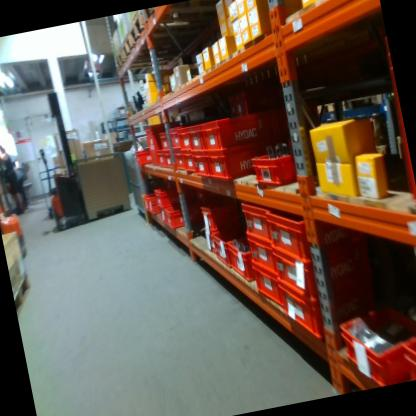pallet: (9, 271, 37, 315), (127, 9, 149, 50), (118, 27, 137, 66), (111, 48, 128, 78), (143, 5, 164, 24)
pallet_truck: (26, 82, 88, 234), (0, 182, 28, 258)
small_load_carrier: (280, 265, 388, 345), (266, 193, 372, 265), (274, 233, 380, 299), (339, 309, 416, 392), (198, 105, 281, 157), (248, 142, 299, 190), (239, 196, 276, 252), (204, 145, 252, 187), (145, 118, 187, 166), (246, 232, 280, 286), (252, 262, 285, 313), (202, 223, 248, 258), (199, 197, 243, 233), (227, 238, 255, 286), (213, 230, 249, 266), (163, 201, 200, 229), (153, 183, 191, 207), (403, 331, 416, 377), (191, 148, 209, 176), (187, 123, 204, 149), (182, 148, 196, 174), (177, 127, 191, 152), (168, 126, 181, 151), (172, 147, 185, 172), (135, 148, 152, 166), (142, 193, 157, 212), (163, 147, 174, 169), (157, 148, 167, 168), (159, 130, 170, 148), (149, 200, 158, 213), (158, 207, 165, 221)
stillage: (73, 149, 133, 221), (122, 149, 148, 221)
